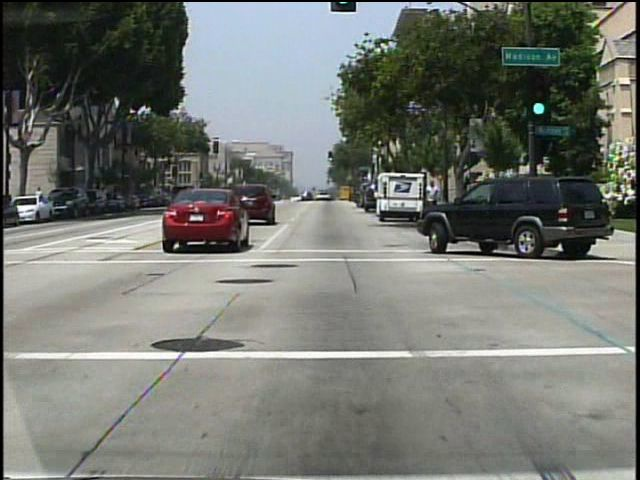person: (424, 180, 441, 221), (352, 185, 367, 212), (36, 186, 47, 211)
